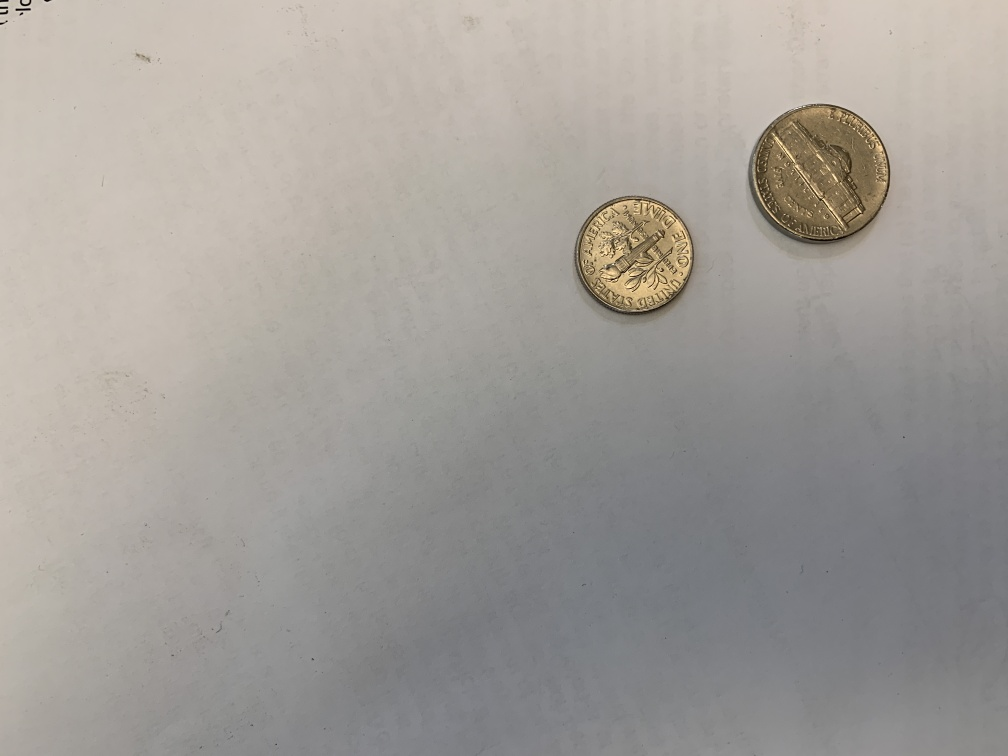dime: (571, 191, 699, 319)
nickel: (745, 99, 895, 250)
